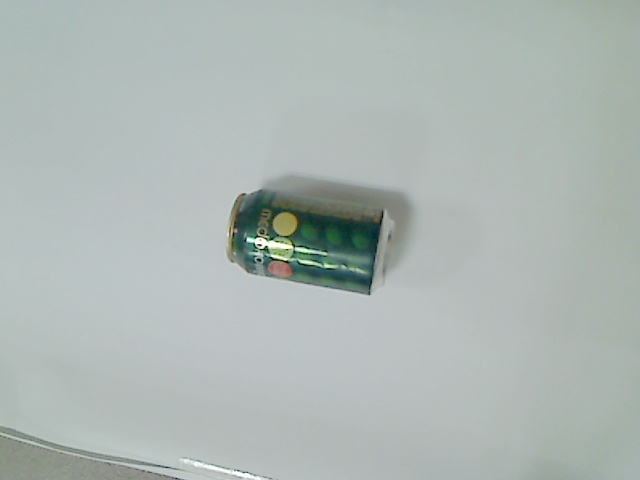can: (225, 186, 397, 298)
